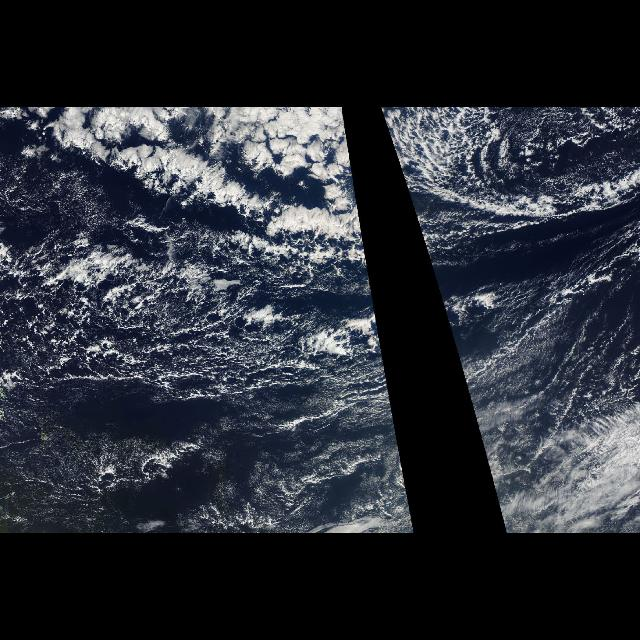Flower: (49, 109, 363, 241), (381, 108, 409, 195)
Gravel: (0, 215, 398, 431), (415, 215, 639, 407)
Sugar: (448, 231, 640, 439), (4, 440, 413, 528)
